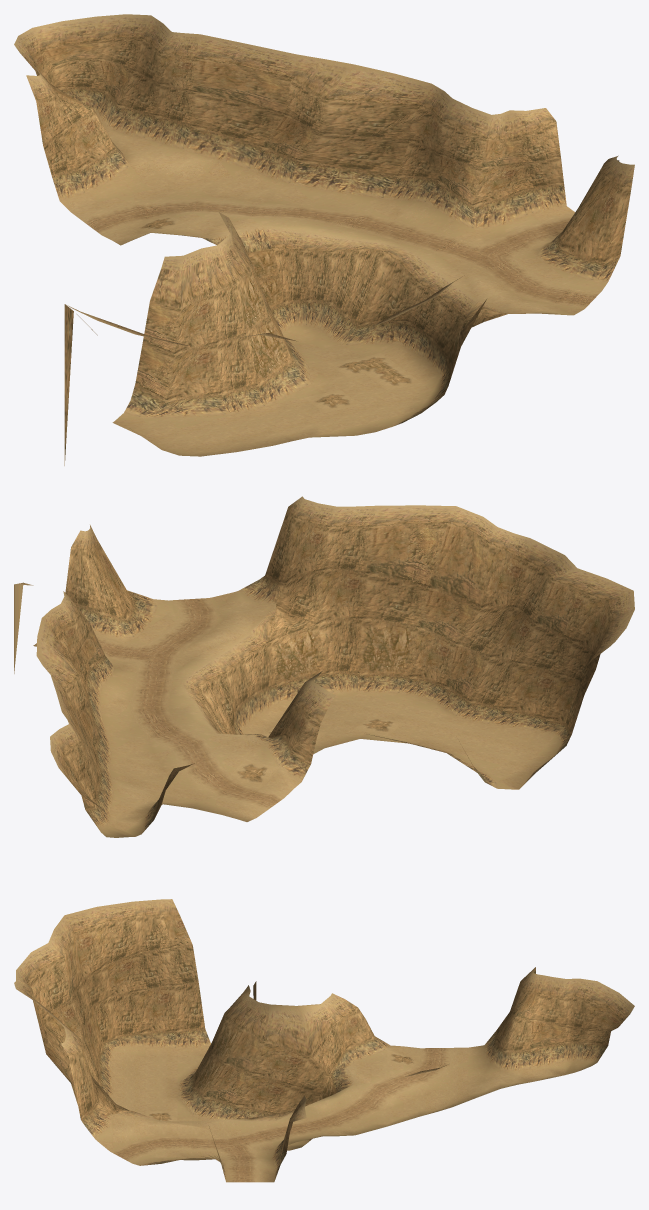
Rendered from Mission5_Zone01A.glb.
The picture shows the model from 3 angles, top to bottom: view 1: azimuth 30°, elevation 25°; view 2: azimuth 150°, elevation 25°; view 3: azimuth 270°, elevation 25°; orthographic projection. The views are drawn at different scales.
Visible parts, largest first — view 1: MISSION5_ZONE01A147, MISSION5_ZONE01A080, MISSION5_ZONE01A112, MISSION5_ZONE01A162, MISSION5_ZONE01A139, MISSION5_ZONE01A111, MISSION5_ZONE01A174, MISSION5_ZONE01A079, MISSION5_ZONE01A081, MISSION5_ZONE01A122, MISSION5_ZONE01A098, MISSION5_ZONE01A107 (+95 smaller); view 2: MISSION5_ZONE01A013, MISSION5_ZONE01A026, MISSION5_ZONE01A004, MISSION5_ZONE01A027, MISSION5_ZONE01A019, MISSION5_ZONE01A012, MISSION5_ZONE01A056, MISSION5_ZONE01A011, MISSION5_ZONE01A002, MISSION5_ZONE01A021, MISSION5_ZONE01A020, MISSION5_ZONE01A008 (+89 smaller); view 3: MISSION5_ZONE01A047, MISSION5_ZONE01A032, MISSION5_ZONE01A105, MISSION5_ZONE01A063, MISSION5_ZONE01A018, MISSION5_ZONE01A175, MISSION5_ZONE01A046, MISSION5_ZONE01A171, MISSION5_ZONE01A094, MISSION5_ZONE01A095, MISSION5_ZONE01A019, MISSION5_ZONE01A116 (+70 smaller).
Boxes of the visible parts, bbox=[...] form: MISSION5_ZONE01A147: bbox=[278, 64, 373, 184]; MISSION5_ZONE01A080: bbox=[150, 261, 215, 399]; MISSION5_ZONE01A112: bbox=[486, 110, 550, 224]; MISSION5_ZONE01A162: bbox=[193, 67, 290, 160]; MISSION5_ZONE01A139: bbox=[322, 103, 433, 175]; MISSION5_ZONE01A111: bbox=[450, 139, 503, 230]; MISSION5_ZONE01A174: bbox=[133, 23, 200, 119]; MISSION5_ZONE01A079: bbox=[130, 301, 179, 411]; MISSION5_ZONE01A081: bbox=[204, 257, 268, 384]; MISSION5_ZONE01A122: bbox=[422, 99, 491, 193]; MISSION5_ZONE01A098: bbox=[345, 251, 419, 325]; MISSION5_ZONE01A107: bbox=[306, 249, 358, 348]; MISSION5_ZONE01A013: bbox=[360, 505, 427, 673]; MISSION5_ZONE01A026: bbox=[316, 528, 366, 691]; MISSION5_ZONE01A004: bbox=[402, 505, 482, 600]; MISSION5_ZONE01A027: bbox=[281, 523, 345, 624]; MISSION5_ZONE01A019: bbox=[525, 603, 606, 734]; MISSION5_ZONE01A012: bbox=[389, 588, 464, 680]; MISSION5_ZONE01A056: bbox=[243, 617, 301, 714]; MISSION5_ZONE01A011: bbox=[429, 601, 498, 685]; MISSION5_ZONE01A002: bbox=[481, 533, 530, 607]; MISSION5_ZONE01A021: bbox=[471, 624, 549, 724]; MISSION5_ZONE01A020: bbox=[491, 636, 577, 728]; MISSION5_ZONE01A008: bbox=[518, 568, 606, 662]; MISSION5_ZONE01A047: bbox=[136, 947, 176, 1046]; MISSION5_ZONE01A032: bbox=[103, 916, 140, 1036]; MISSION5_ZONE01A105: bbox=[252, 1022, 320, 1113]; MISSION5_ZONE01A063: bbox=[172, 945, 210, 1048]; MISSION5_ZONE01A018: bbox=[64, 907, 111, 1004]; MISSION5_ZONE01A175: bbox=[562, 978, 608, 1061]; MISSION5_ZONE01A046: bbox=[135, 899, 179, 953]; MISSION5_ZONE01A171: bbox=[522, 975, 565, 1045]; MISSION5_ZONE01A094: bbox=[225, 1002, 270, 1072]; MISSION5_ZONE01A095: bbox=[228, 1073, 290, 1119]; MISSION5_ZONE01A019: bbox=[75, 934, 112, 1065]; MISSION5_ZONE01A116: bbox=[291, 1022, 338, 1094].
Size of the model in its own units: 126 by 38.3 by 154.
19 materials, 19 textured.
